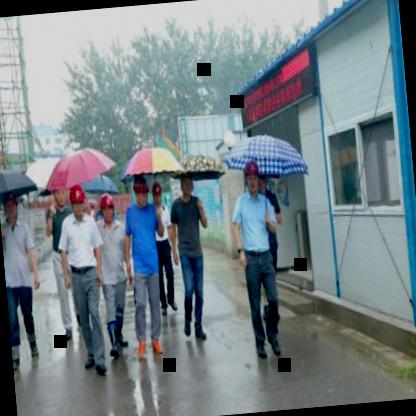head: (178, 168, 198, 199), (50, 179, 66, 208)
helmet: (66, 179, 90, 223), (129, 172, 153, 215), (241, 156, 264, 196), (0, 187, 20, 227), (99, 189, 119, 224), (149, 180, 165, 213)
